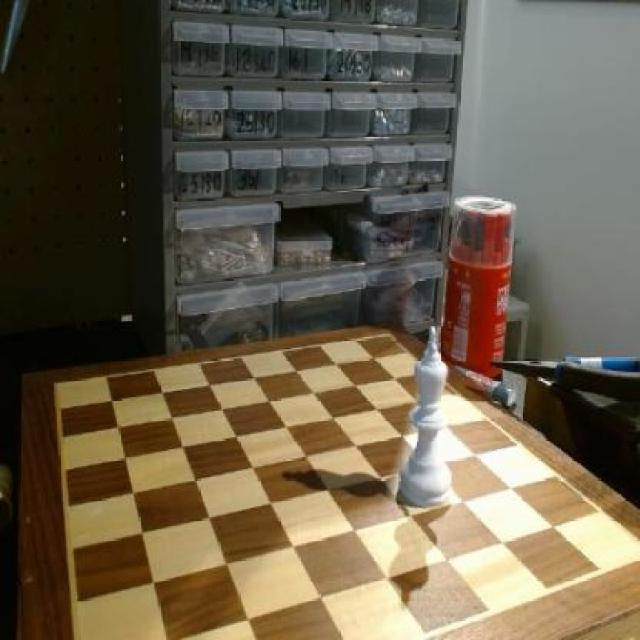white-bishop: (398, 328, 454, 512)
